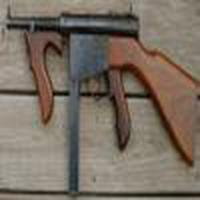gun: (2, 5, 199, 165)
